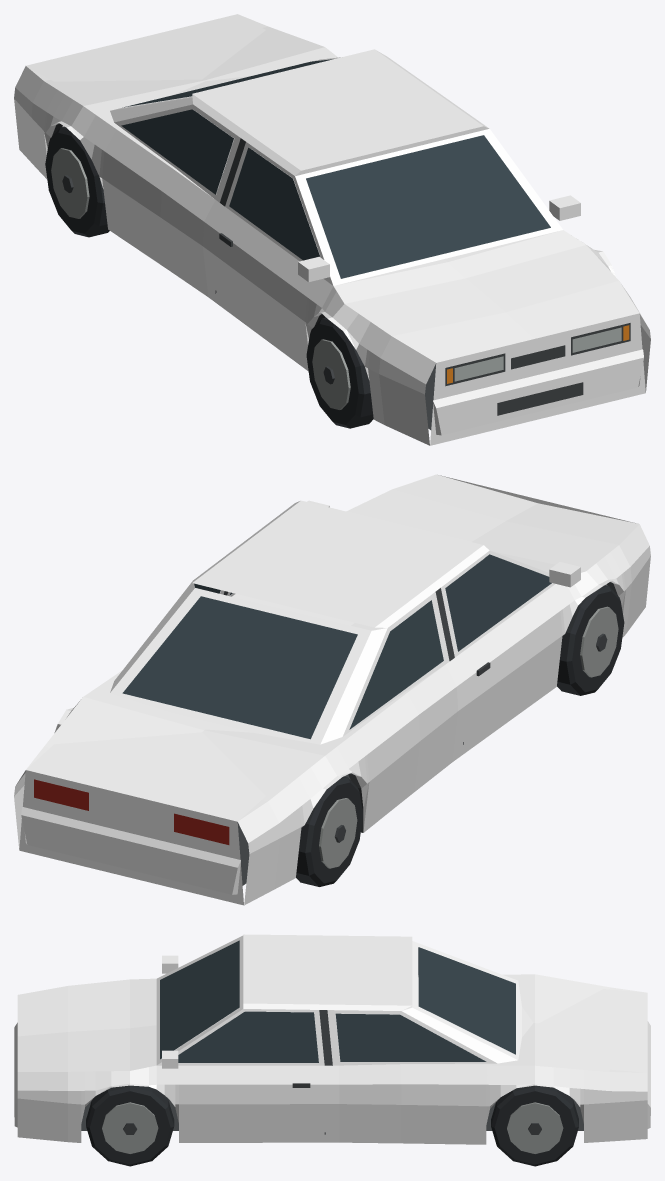
The model's file is whitlock_palomino.glb.
3 renders of one model, top to bottom at view 1: azimuth 30°, elevation 25°; view 2: azimuth 150°, elevation 25°; view 3: azimuth 270°, elevation 25°, orthographic. The views are drawn at different scales.
Visible parts, largest first — view 1: whitlock_palomino; view 2: whitlock_palomino; view 3: whitlock_palomino.
Part boxes in pixels (<box>): whitlock_palomino: <box>14,14,650,445</box>; whitlock_palomino: <box>14,474,650,905</box>; whitlock_palomino: <box>14,934,650,1166</box>.
Bounding box in the file's own units: 1.81 × 1.2 × 4.67.
Materials: 8 (1 with a texture image).
